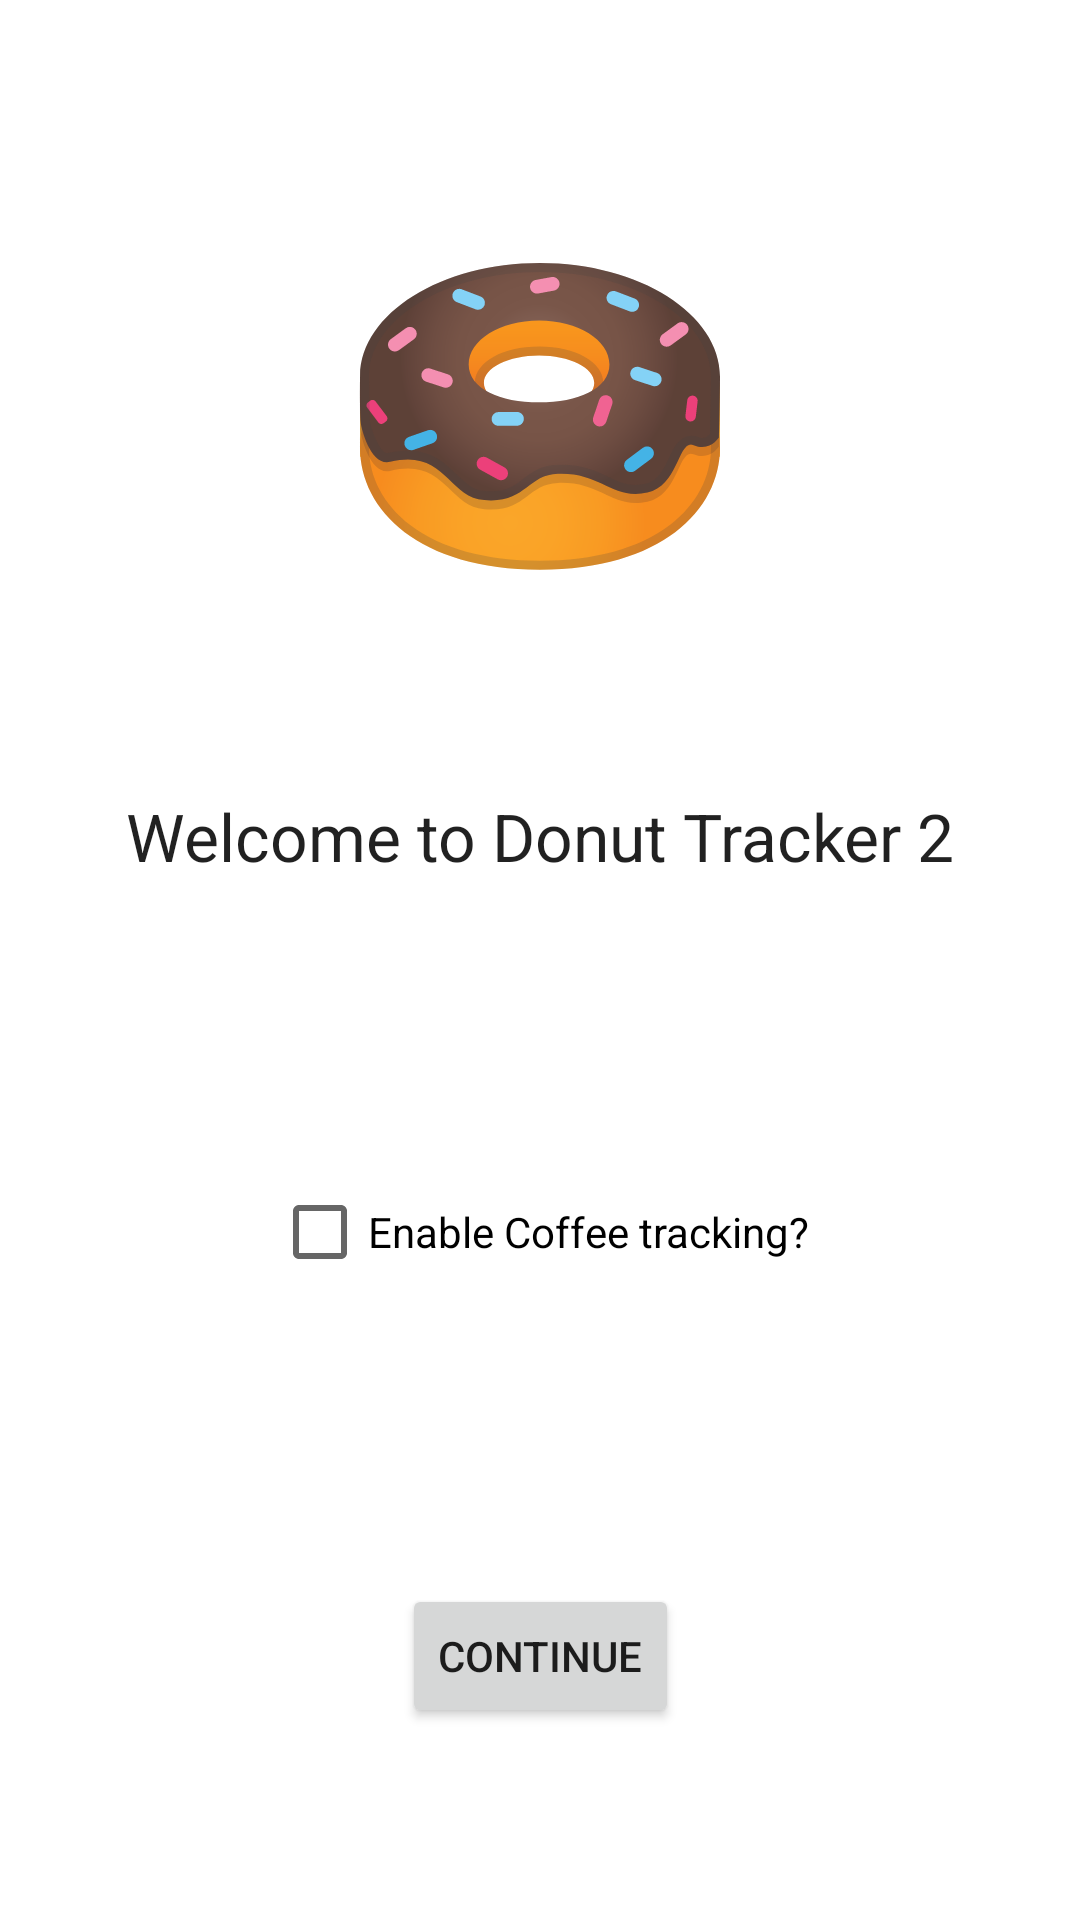

Screen size 1080 x 1920. Icon name, then its box in pixels as (x1, y1, x2, y2):
donut with sprinkles: (360, 263, 720, 570)
